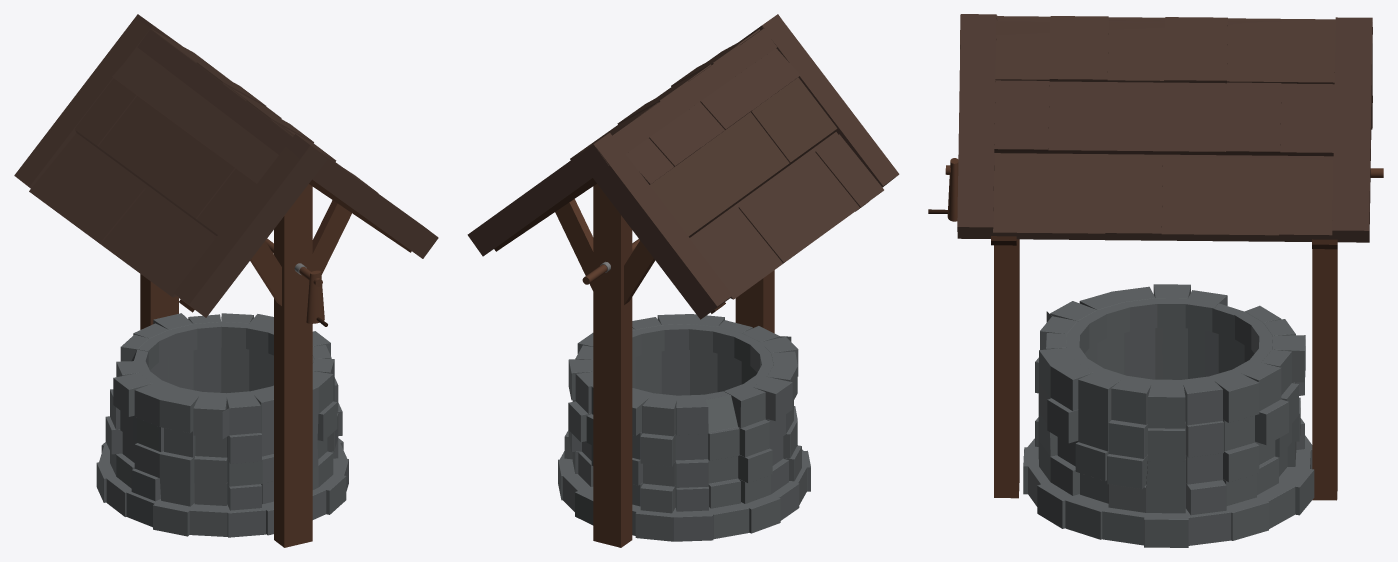
File: well1.fbx
3 renders of one model, left to right at view 1: azimuth 30°, elevation 25°; view 2: azimuth 150°, elevation 25°; view 3: azimuth 270°, elevation 25°, orthographic. The views are drawn at different scales.
Parts seen in each view (by area): view 1: mwell2; view 2: mwell2; view 3: mwell2.
Part boxes in pixels (bbox=[...]): mwell2: bbox=[14, 14, 438, 547]; mwell2: bbox=[467, 14, 899, 547]; mwell2: bbox=[928, 14, 1383, 547].
Bounding box in the file's own units: 1.9 × 2.91 × 2.53.
